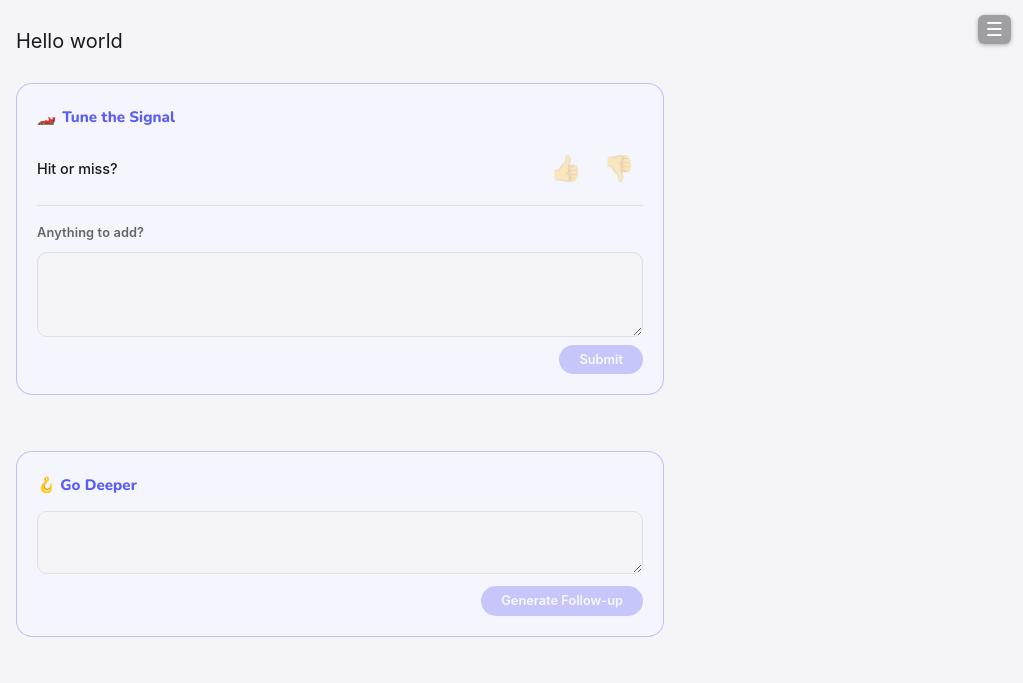
ArticlePage feedback bar › shows reaction error and clears selection when postFeedback fails for reaction
The image size is (1023, 683).
Click the button named "Like". click: (566, 169)
box: 542,148 -> 590,189
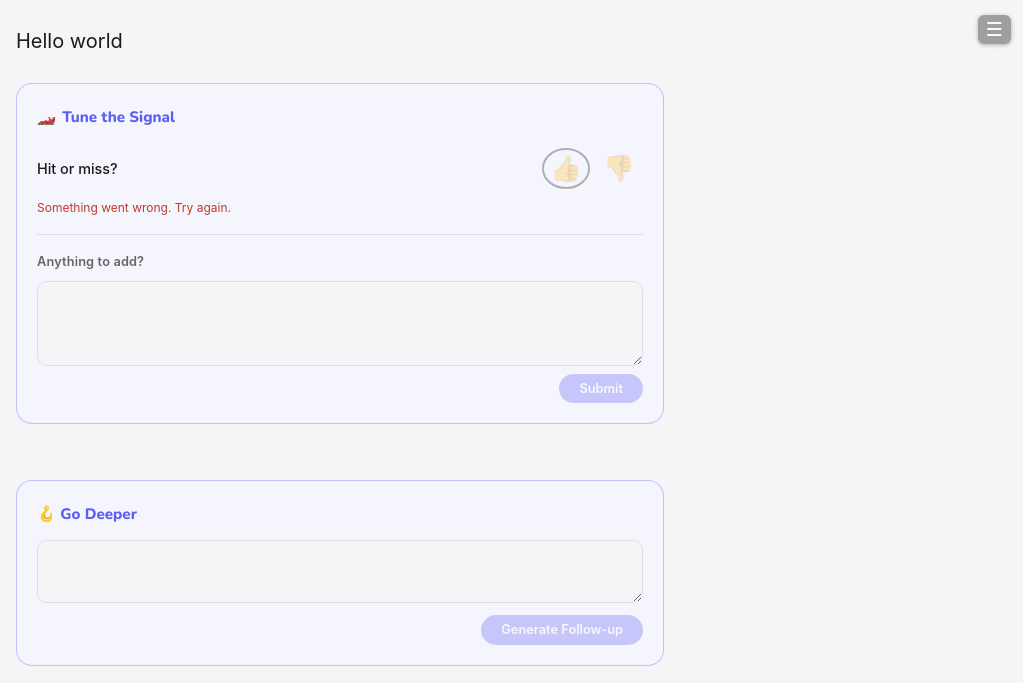
Now the text "Something went wrong. Try again." is shown, box 37,200 -> 231,215
